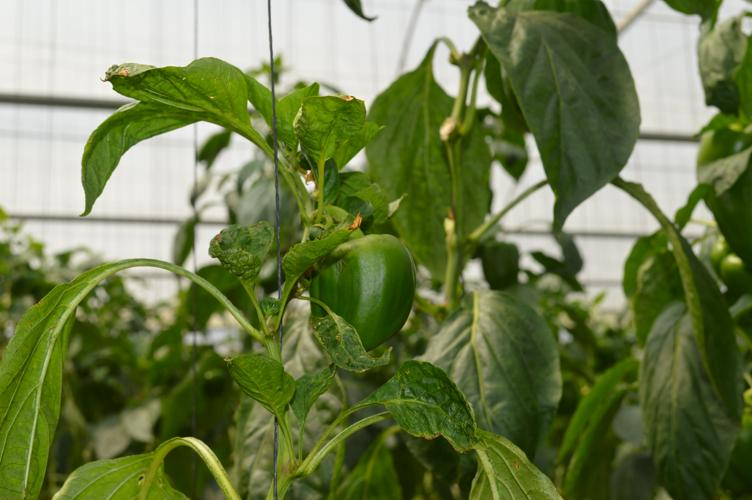BellPepper: (302, 234, 417, 351)
